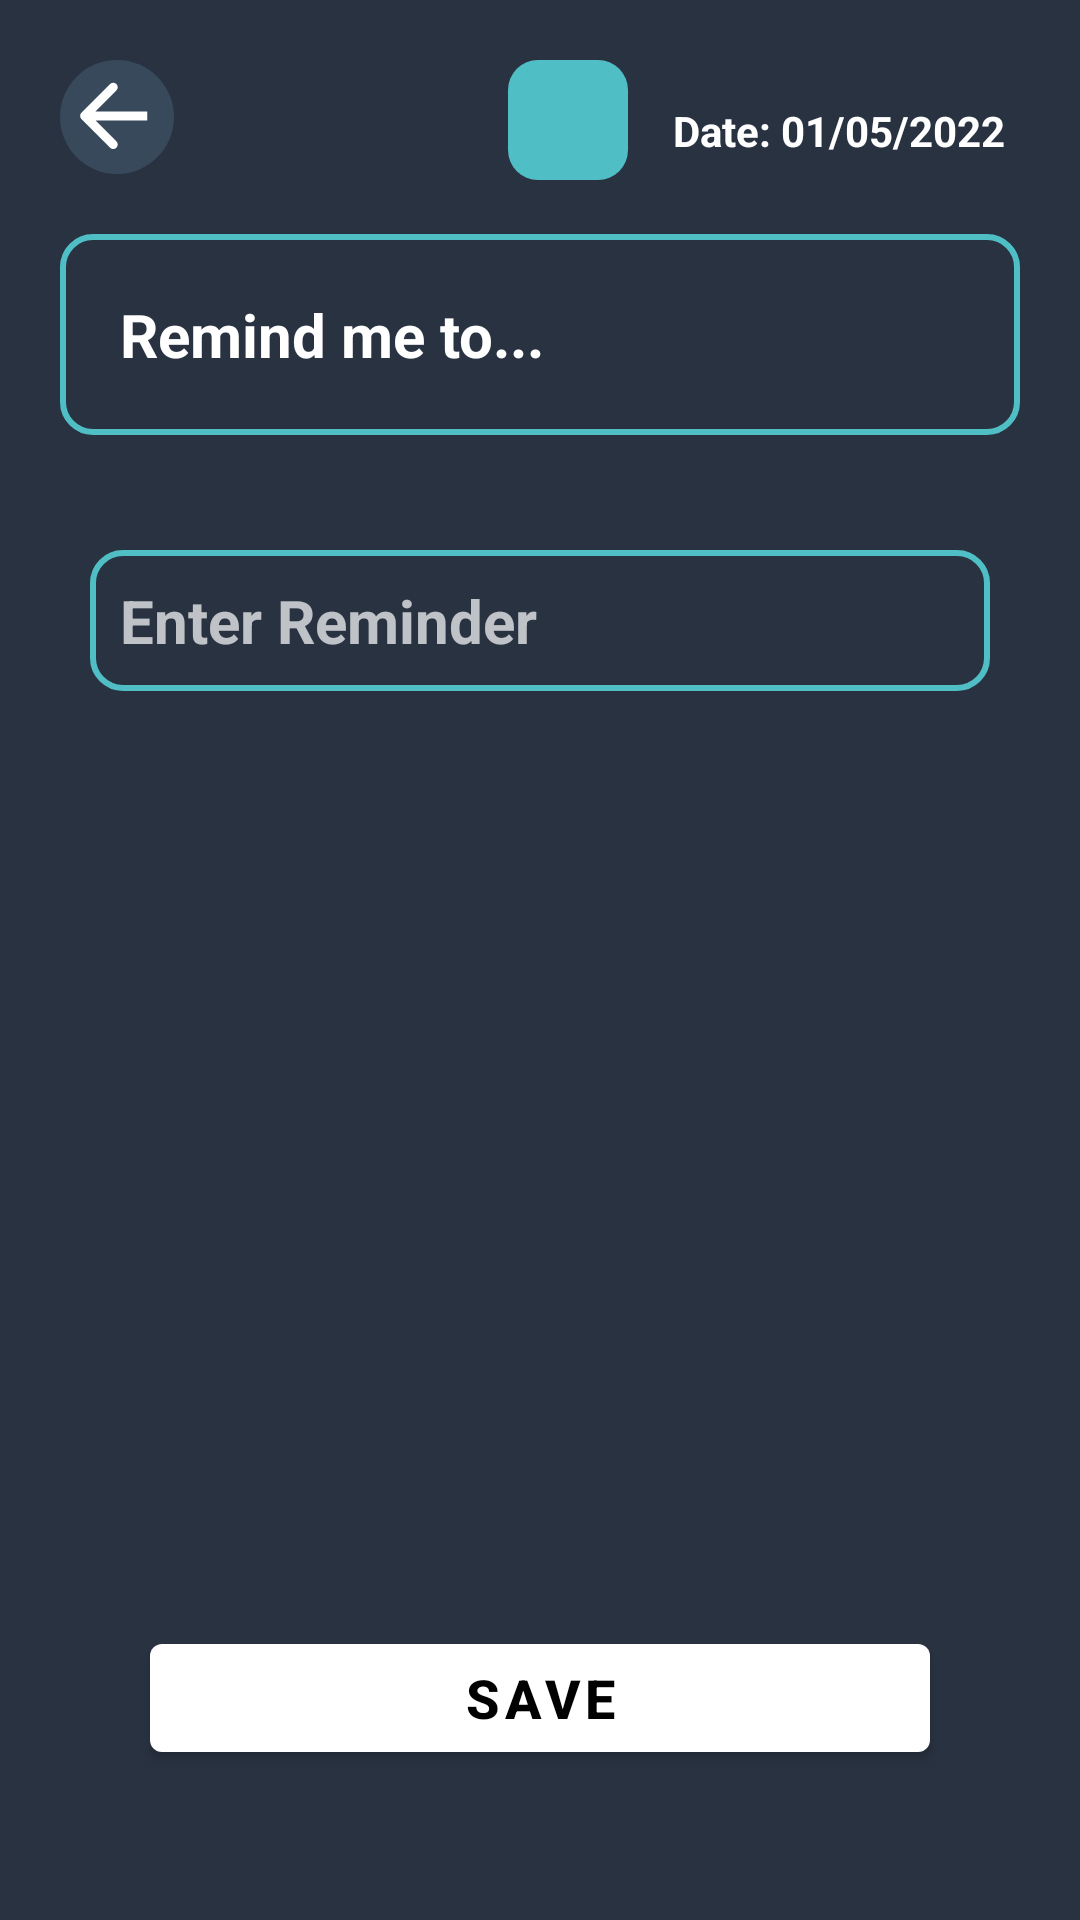

Locate icon controls on the screen. Image size 1080×1920, boxes as (x1, y1, x2, y2).
back: (60, 60, 174, 174)
